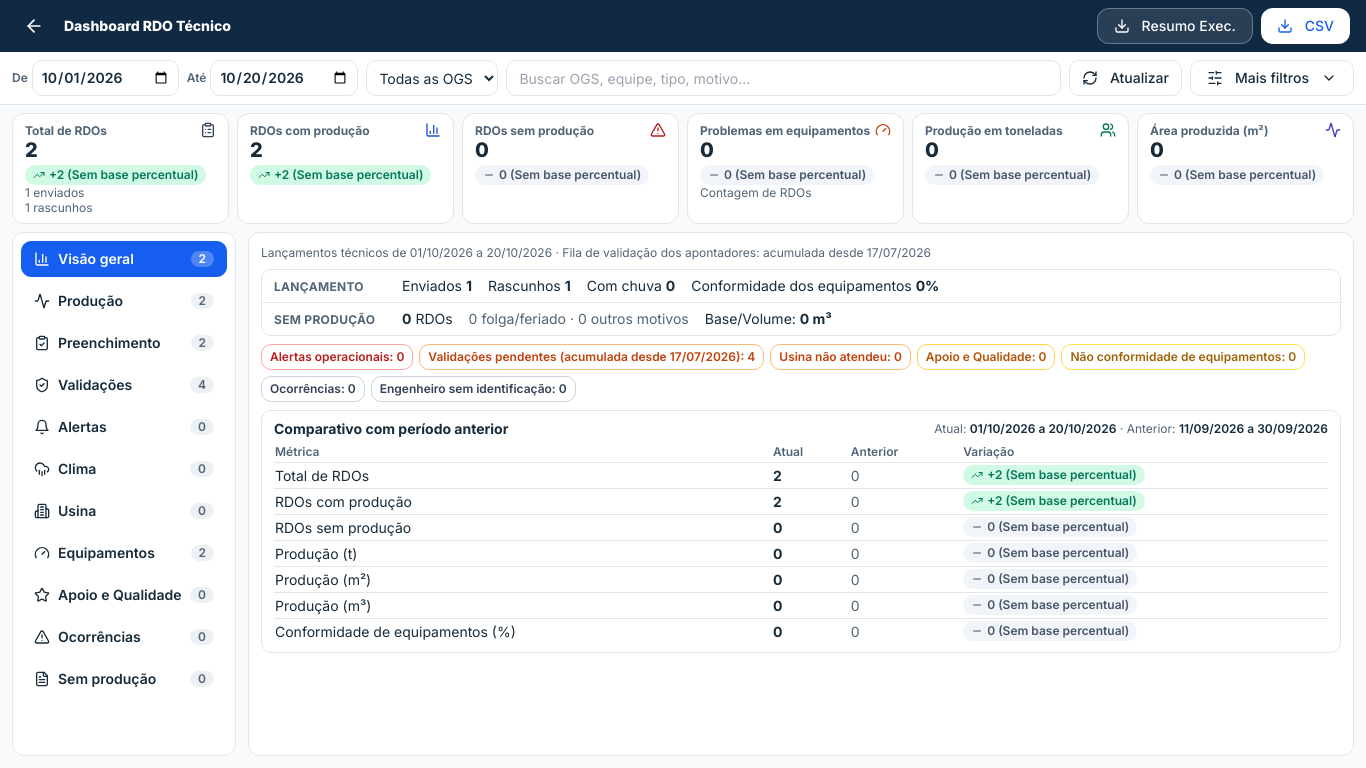
it: Dashboard Técnico — fase 2 › aplica os filtros próprios de obra, responsável, busca e sem identificação
Click the button "Validações 4" at (124, 385), box [21,367,227,403]
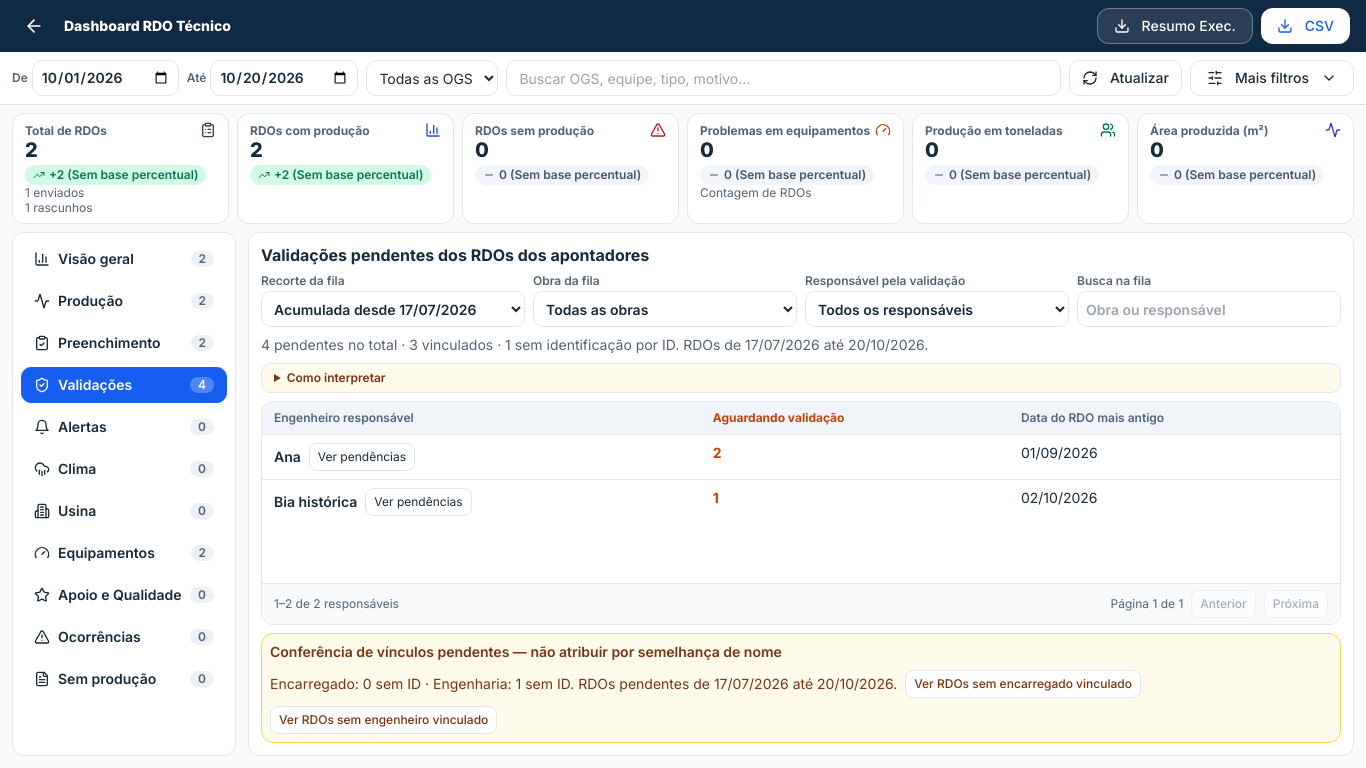
Select "OGS 2553" in the dropdown labelled "Obra da fila" at (665, 309), box [533,291,797,327]
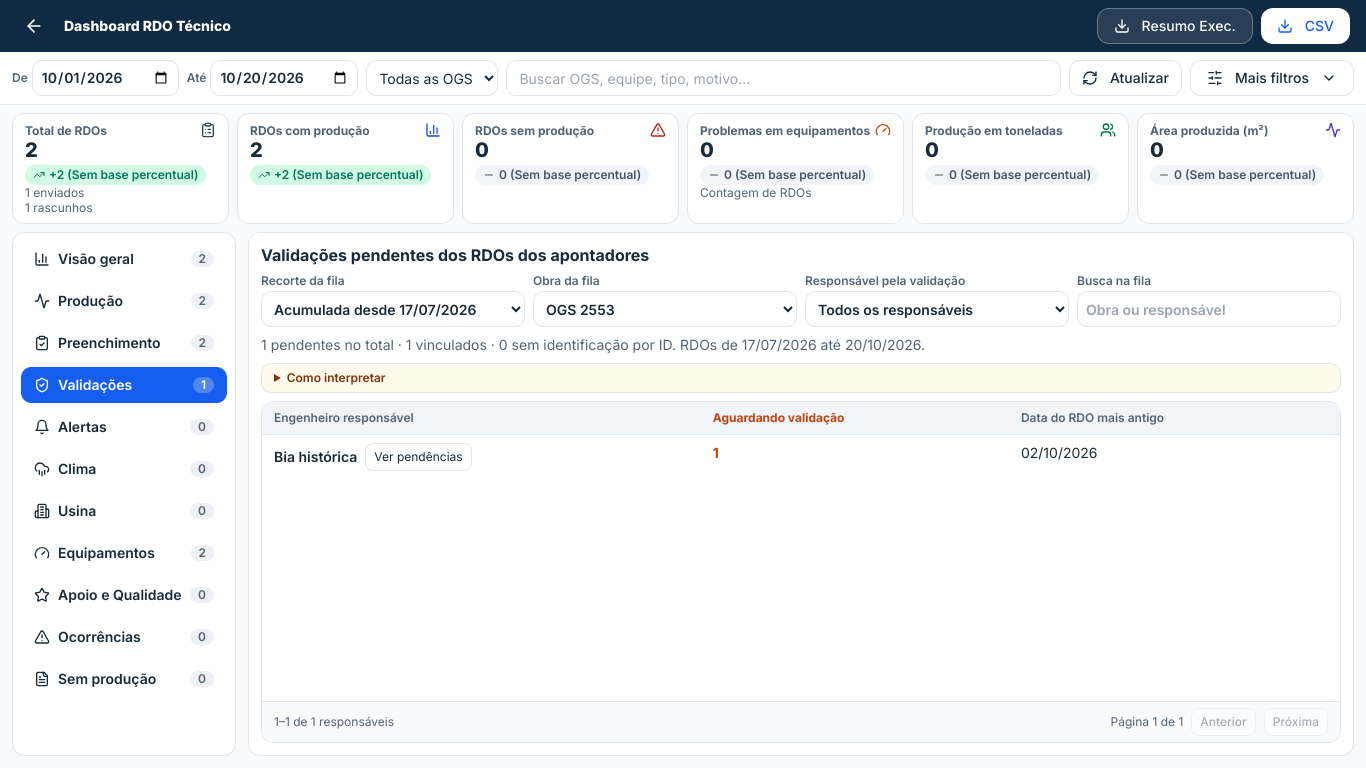
Check: the text with test id "total-fila-validacao" shows "1 pendentes no total · 1 vinculados", box [261,336,925,353]
Select "Todas as obras" in the dropdown labelled "Obra da fila" at (665, 309), box [533,291,797,327]
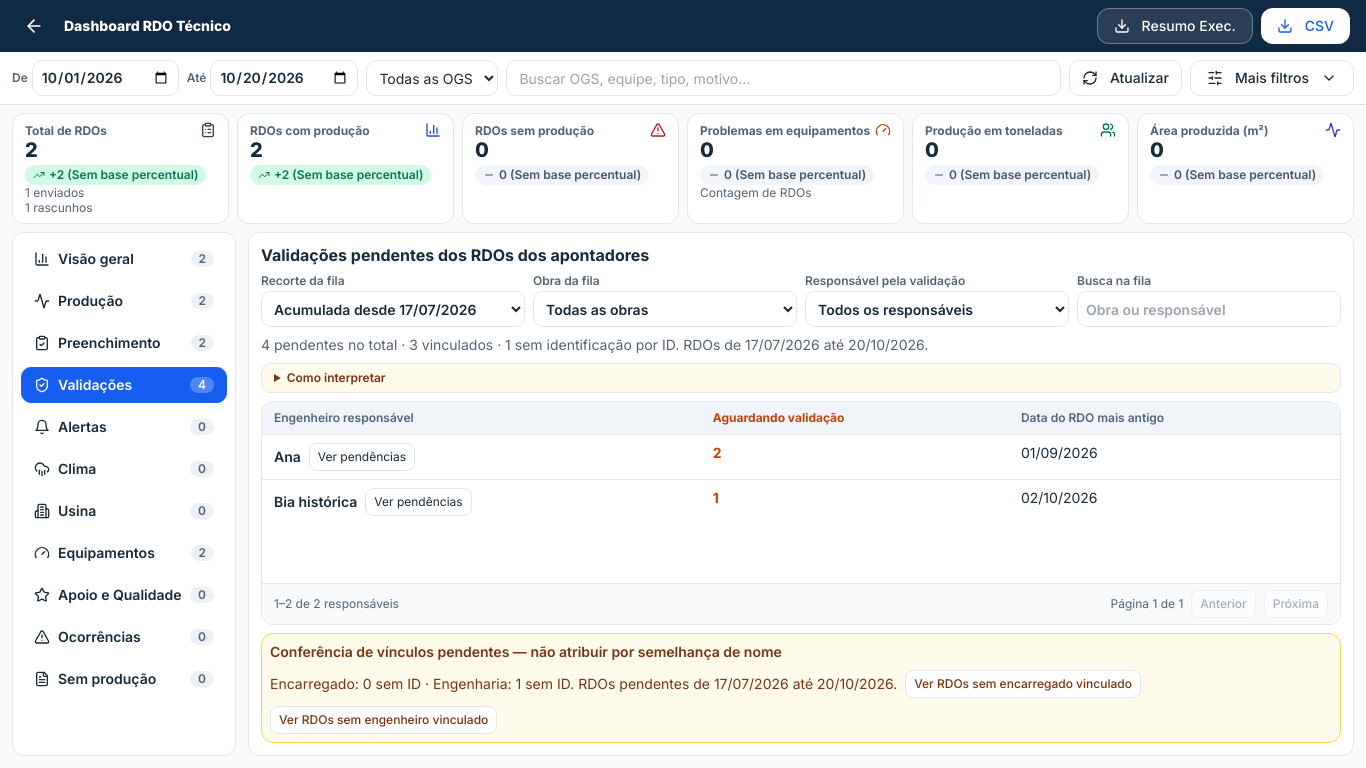
Select "Sem identificação por ID" in the dropdown labelled "Responsável pela validação" at (937, 309), box [805,291,1069,327]
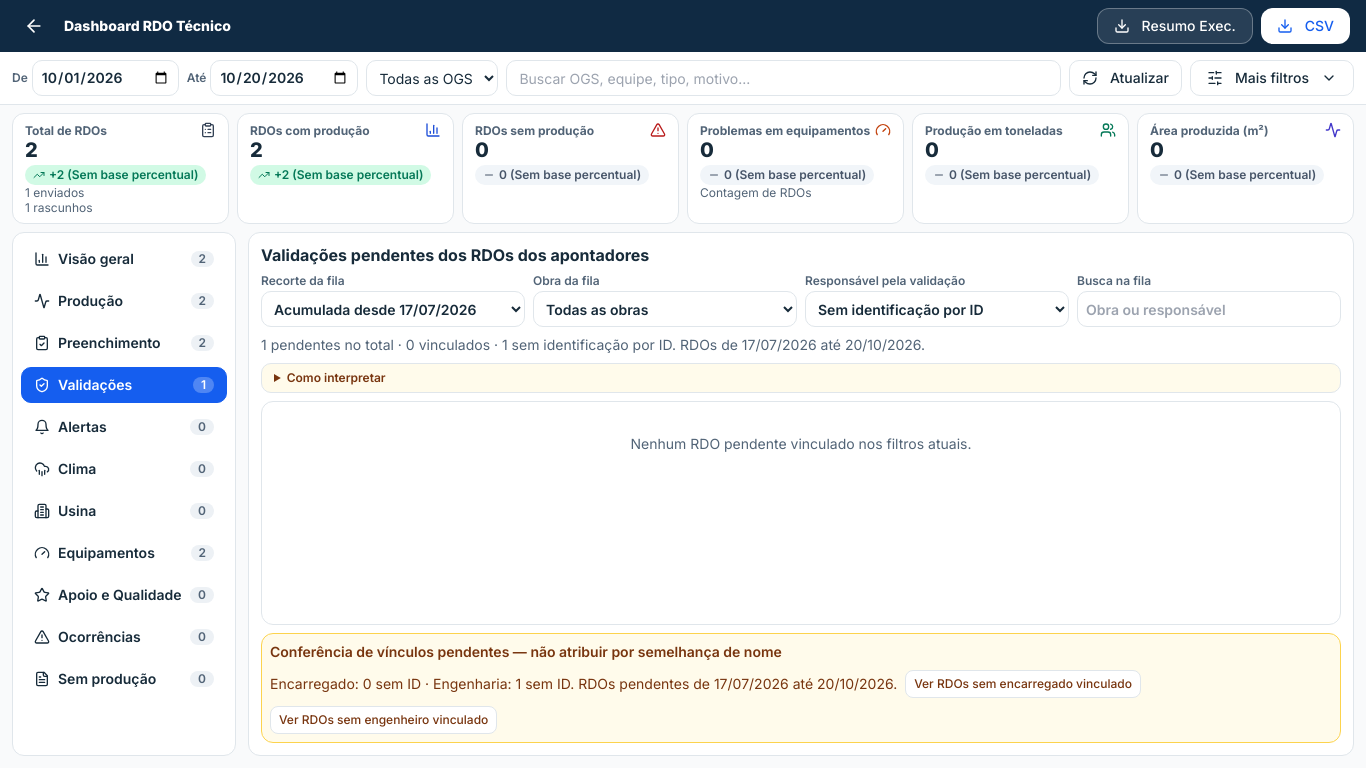
Check: the text with test id "total-fila-validacao" shows "1 pendentes no total · 0 vinculados · 1 sem identificação", box [261,336,925,353]
Type "inexistente" into the field labelled "Busca na fila" at (1209, 309), box [1077,291,1341,327]
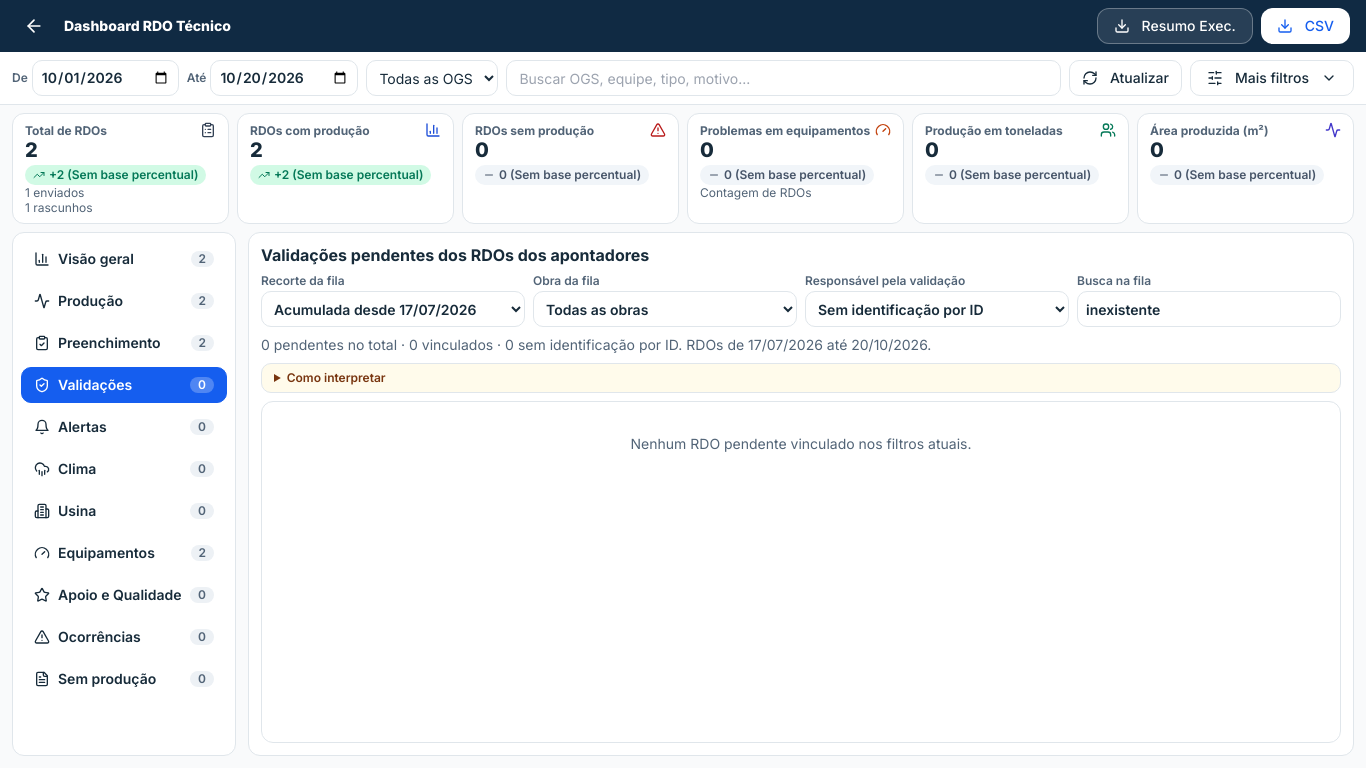
Check: the text with test id "total-fila-validacao" shows "0 pendentes no total", box [261,336,931,353]
